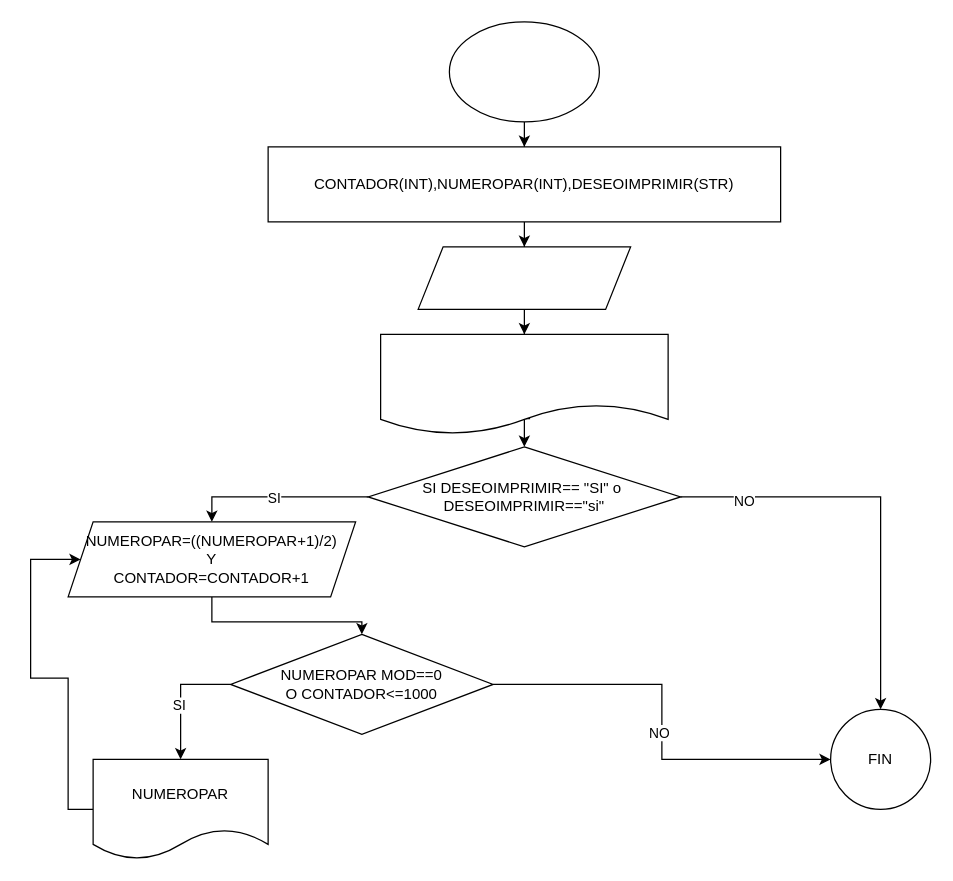
This 953x881 diagram has some shape labels left out. Here are the shapes that lost their labels. From the top down, the box of each, then its label:
(448, 21, 599, 122): INICIO
(417, 246, 631, 309): CONTADOR=0 NUMEROPAR=0
(379, 333, 668, 434): "¿Quieres imprimir los numero pares del 0 al 100 ? (SI/NO) "
